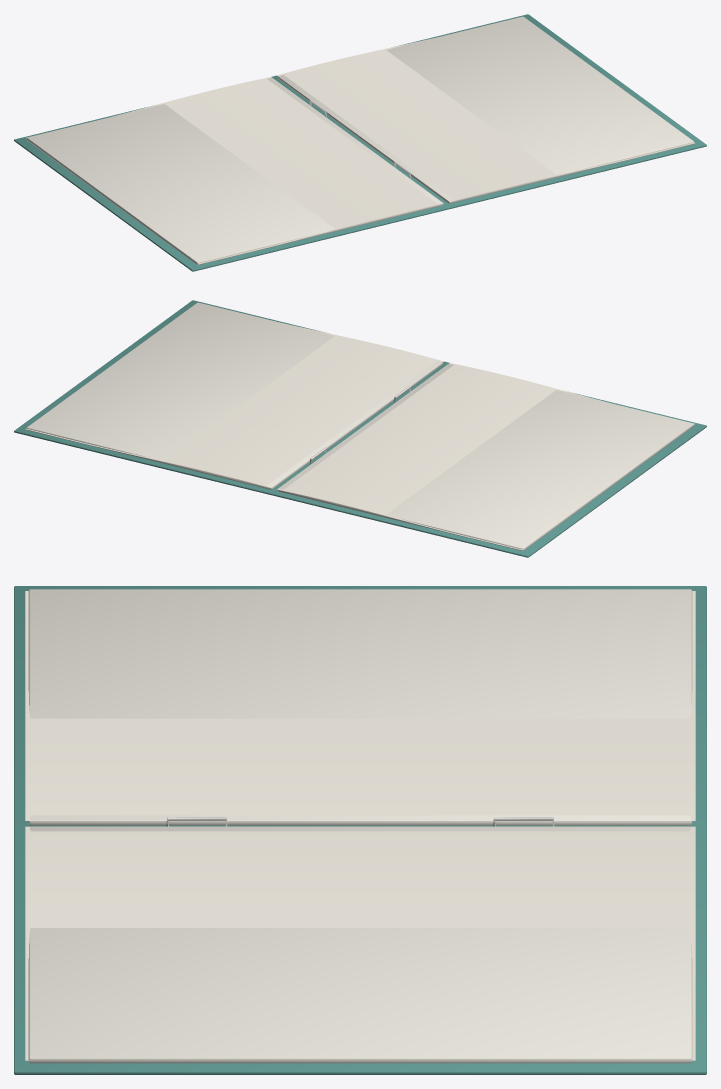
Rendered from notebook.glb.
The picture shows the model from 3 angles, top to bottom: view 1: azimuth 30°, elevation 25°; view 2: azimuth 150°, elevation 25°; view 3: azimuth 270°, elevation 25°; orthographic projection. The views are drawn at different scales.
Visible parts, largest first — view 1: NotebookBody, PageLeft, PageRight; view 2: NotebookBody, PageLeft, PageRight; view 3: NotebookBody, PageLeft, PageRight.
Part boxes in pixels (bbox=[...]): NotebookBody: bbox=[14, 14, 706, 271]; PageLeft: bbox=[26, 77, 443, 264]; PageRight: bbox=[277, 39, 694, 201]; NotebookBody: bbox=[14, 300, 706, 557]; PageLeft: bbox=[277, 363, 694, 550]; PageRight: bbox=[26, 325, 443, 487]; NotebookBody: bbox=[14, 586, 706, 1074]; PageLeft: bbox=[25, 591, 695, 820]; PageRight: bbox=[25, 826, 695, 1060].
Size of the model in its own units: 3.52 by 0.05 by 2.12.
